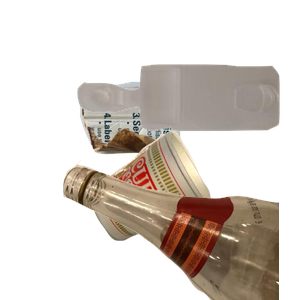cardboard: (77, 79, 251, 227)
glass: (60, 120, 300, 300)
plastic: (75, 62, 300, 186)
trash: (90, 129, 295, 300)
